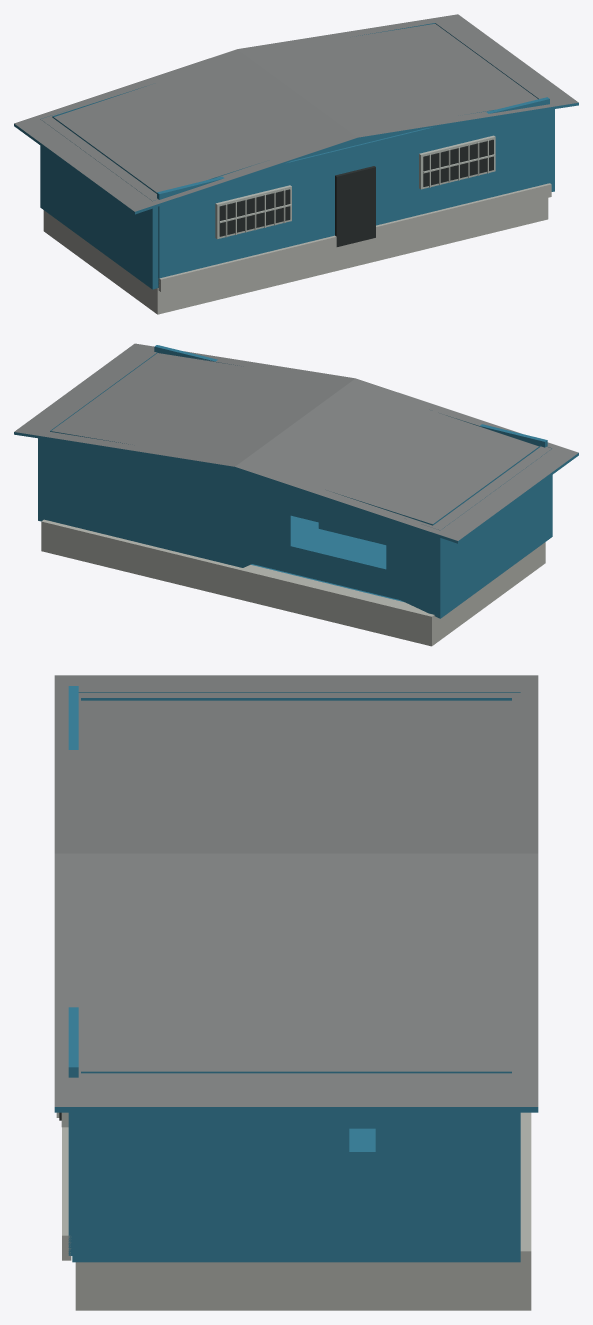
The model's file is casa_azul.glb.
3 views of the same model, one above another, from view 1: azimuth 30°, elevation 25°; view 2: azimuth 150°, elevation 25°; view 3: azimuth 270°, elevation 25° (orthographic). The views are drawn at different scales.
Parts seen in each view (by area): view 1: House1 adaptada, Muro de fachada, Cimentación, Zócalo frontal, Puerta central, Vidrio, Vidrio.001, Marco de ventana, Marco de ventana.001; view 2: House1 adaptada, Cimentación, Muro de fachada; view 3: House1 adaptada, Cimentación, Muro de fachada, Zócalo frontal.
Boxes of the visible parts, x1,y1,x2,y2 form: House1 adaptada: (14, 14, 578, 289); Muro de fachada: (157, 97, 549, 287); Cimentación: (43, 198, 548, 314); Zócalo frontal: (158, 183, 551, 291); Puerta central: (335, 166, 375, 246); Vidrio: (219, 189, 290, 236); Vidrio.001: (423, 139, 493, 186); Marco de ventana: (215, 185, 291, 239); Marco de ventana.001: (419, 135, 495, 189); House1 adaptada: (14, 343, 578, 618); Cimentación: (41, 519, 545, 646); Muro de fachada: (154, 345, 547, 447); House1 adaptada: (54, 675, 538, 1262); Cimentación: (75, 1112, 531, 1310); Muro de fachada: (68, 686, 78, 1255); Zócalo frontal: (62, 1127, 71, 1260).
Bounding box in the file's own units: 13.3 × 3.82 × 6.27.
